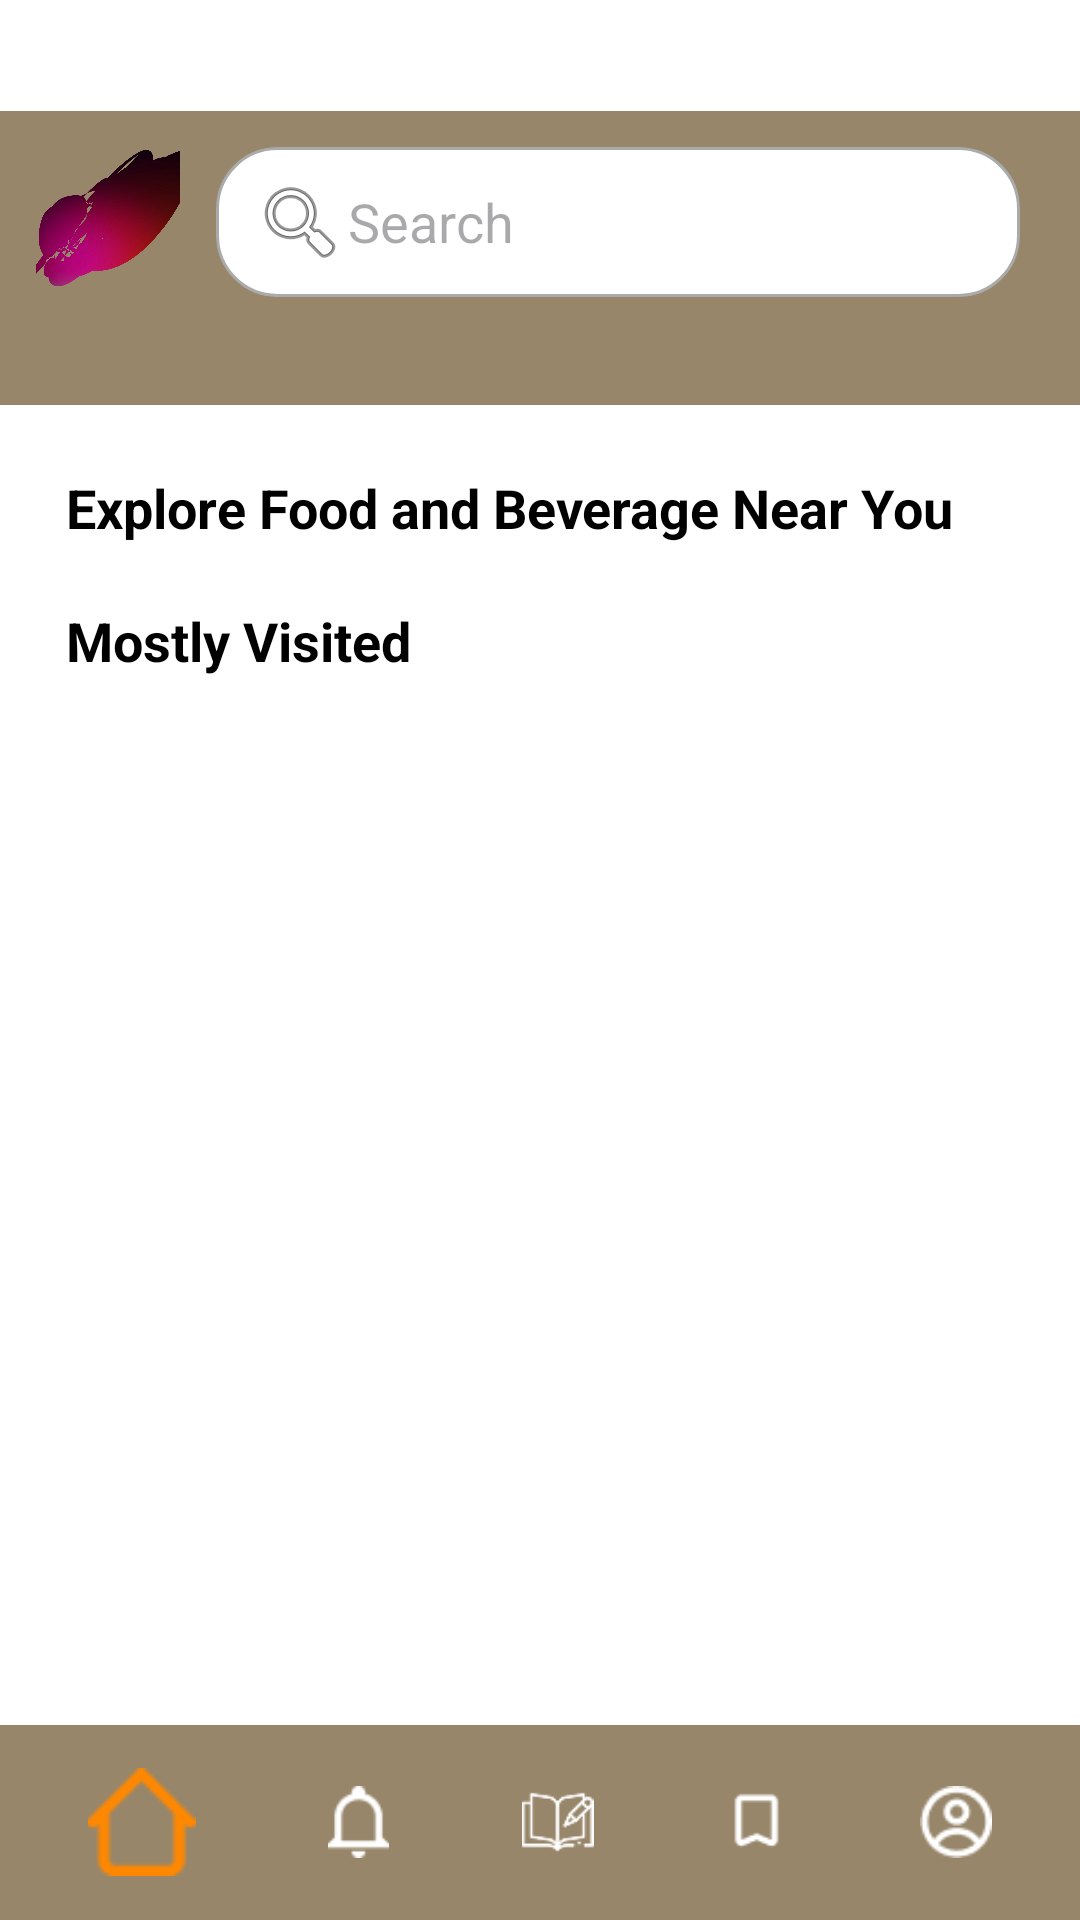

Screen size 1080x1920. Icon name, then its center in pixels as [x,y]:
Home: [142,1822]
Journal: [558,1822]
Notifications: [358,1822]
Profile: [956,1822]
Save: [756,1820]
